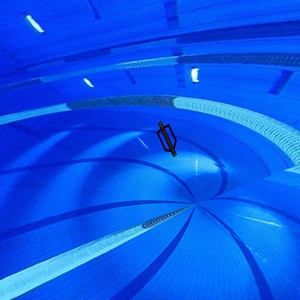submarine: (152, 118, 183, 164)
